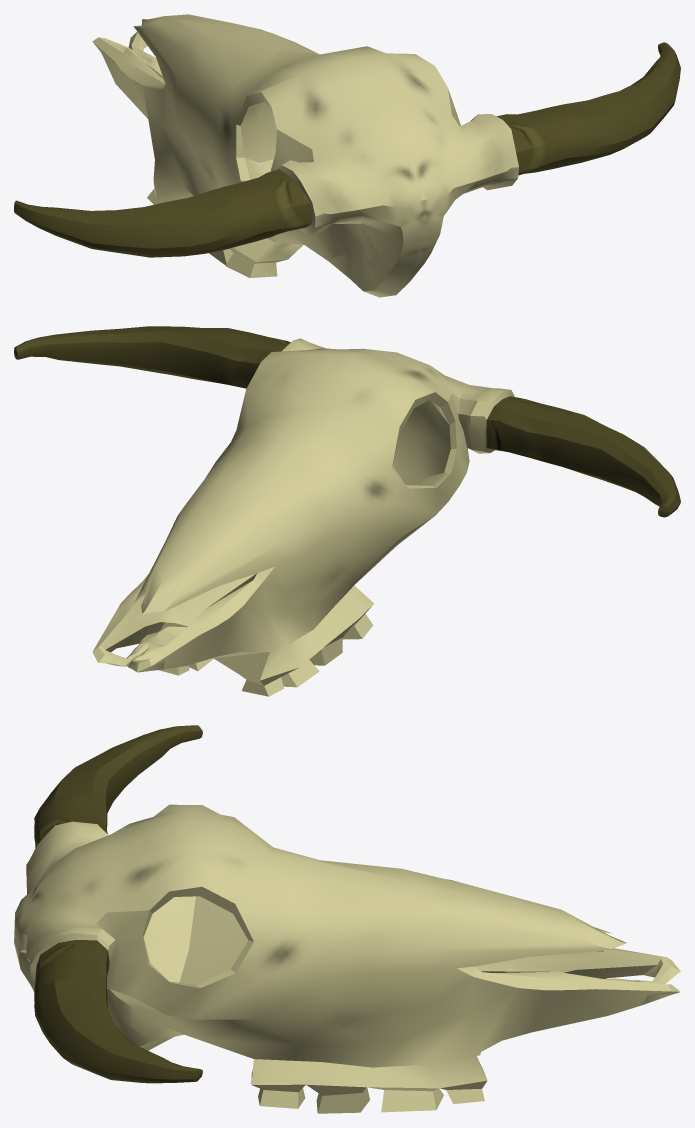
Rendered from steerSkull.obj.
3 renders of one model, top to bottom at view 1: azimuth 30°, elevation 25°; view 2: azimuth 150°, elevation 25°; view 3: azimuth 270°, elevation 25°, orthographic. The views are drawn at different scales.
Parts seen in each view (by area): view 1: Cylinder.001; view 2: Cylinder.001; view 3: Cylinder.001.
Part boxes in pixels (x1,y1,x2,y2): Cylinder.001: (14, 14, 680, 297); Cylinder.001: (14, 326, 680, 696); Cylinder.001: (14, 725, 680, 1113).
Bounding box in the file's own units: 7.61 × 2.65 × 6.17.
1 material, 1 textured.
